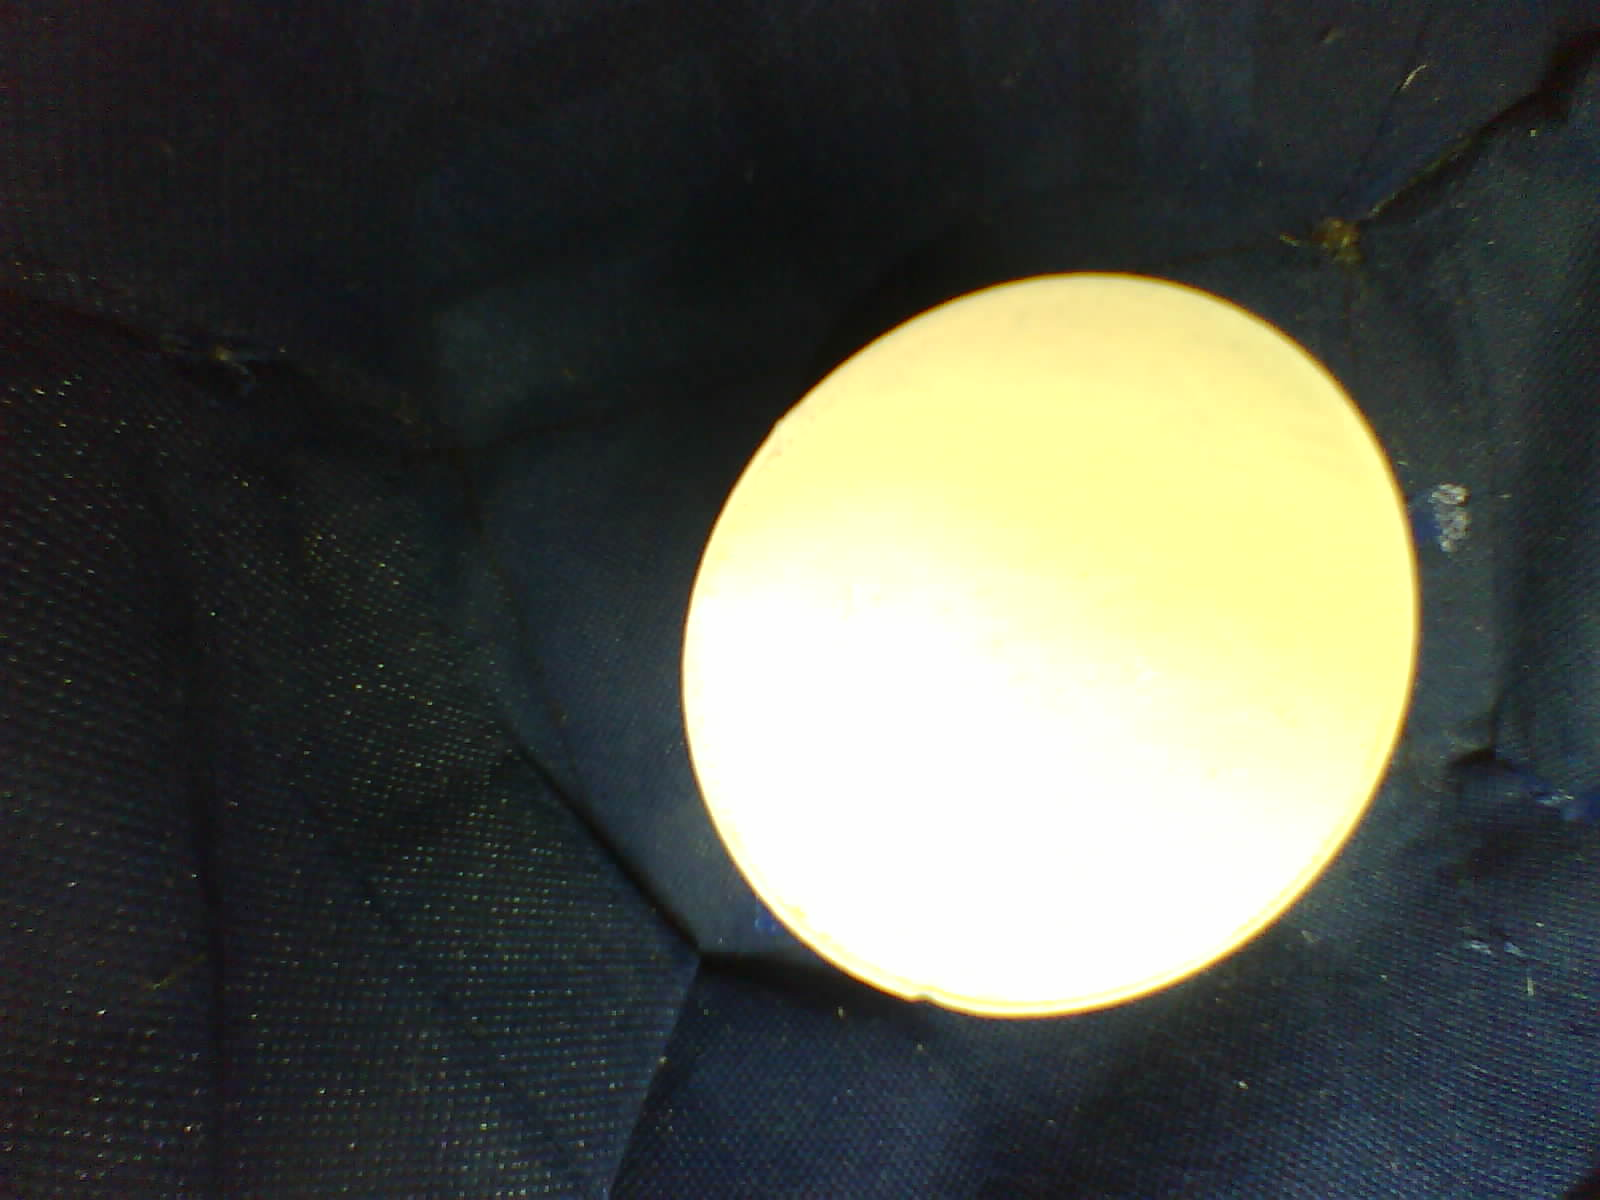cylinder-hard: (664, 255, 1440, 1042)
